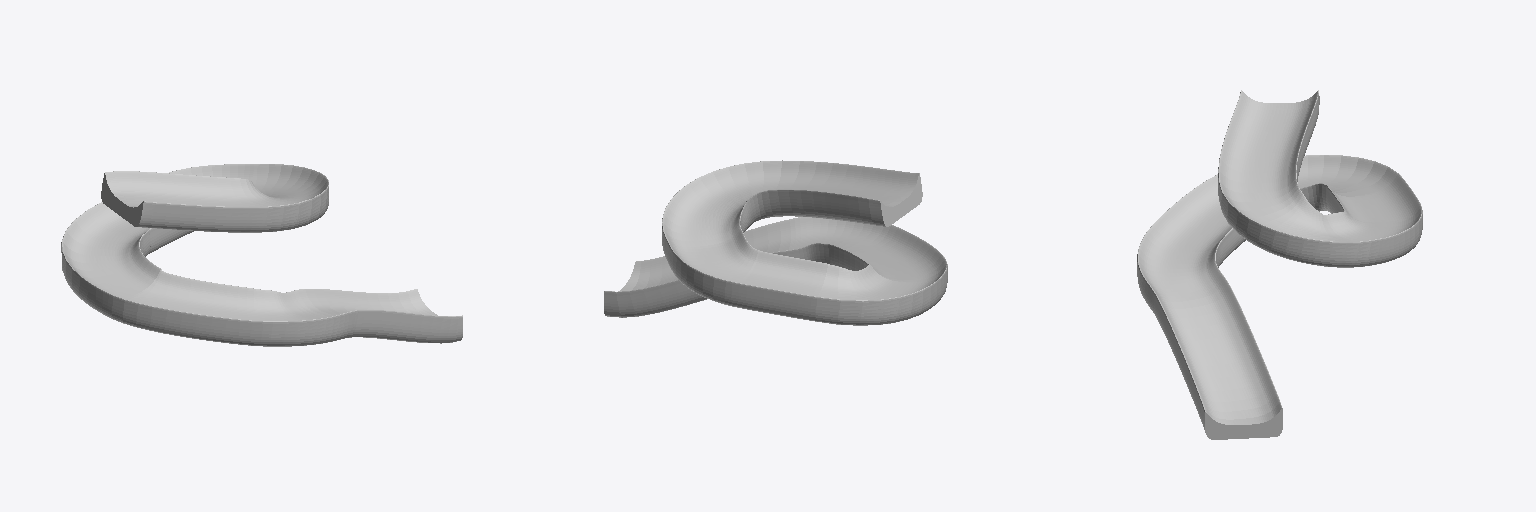
File: pipe1.obj
The picture shows the model from 3 angles: view 1: azimuth 30°, elevation 25°; view 2: azimuth 150°, elevation 25°; view 3: azimuth 270°, elevation 25°; orthographic projection.
Visible parts, largest first — view 1: BezierCurve; view 2: BezierCurve; view 3: BezierCurve.
Boxes of the visible parts, <box> form: BezierCurve: <box>61,164,462,346</box>; BezierCurve: <box>604,160,947,325</box>; BezierCurve: <box>1137,90,1422,439</box>.
Bounding box in the file's own units: 13.04 × 7.46 × 9.51.